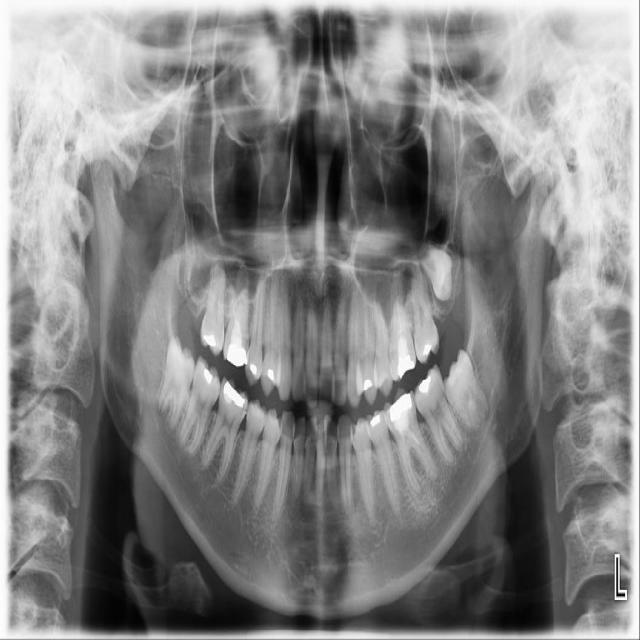52: (402, 363, 457, 418), (374, 383, 426, 437), (187, 352, 223, 409), (214, 376, 252, 425), (385, 331, 420, 384), (412, 318, 443, 366), (355, 355, 379, 405), (221, 329, 251, 367), (259, 351, 283, 396), (200, 313, 223, 357), (245, 346, 263, 387), (365, 410, 388, 441)
73: (387, 422, 445, 498), (227, 264, 250, 340), (389, 265, 411, 344), (612, 576, 618, 586)
BioHorizons Implant: (409, 257, 440, 366)
BioLife Implant: (419, 240, 452, 302)
Biomet 3i Implant: (428, 346, 497, 438)
Blue Sky Bio Implant: (405, 362, 470, 470)
Caries: (200, 252, 227, 356)
Implant: (174, 356, 228, 460)
Keystone Dental Implant: (153, 335, 201, 435)
